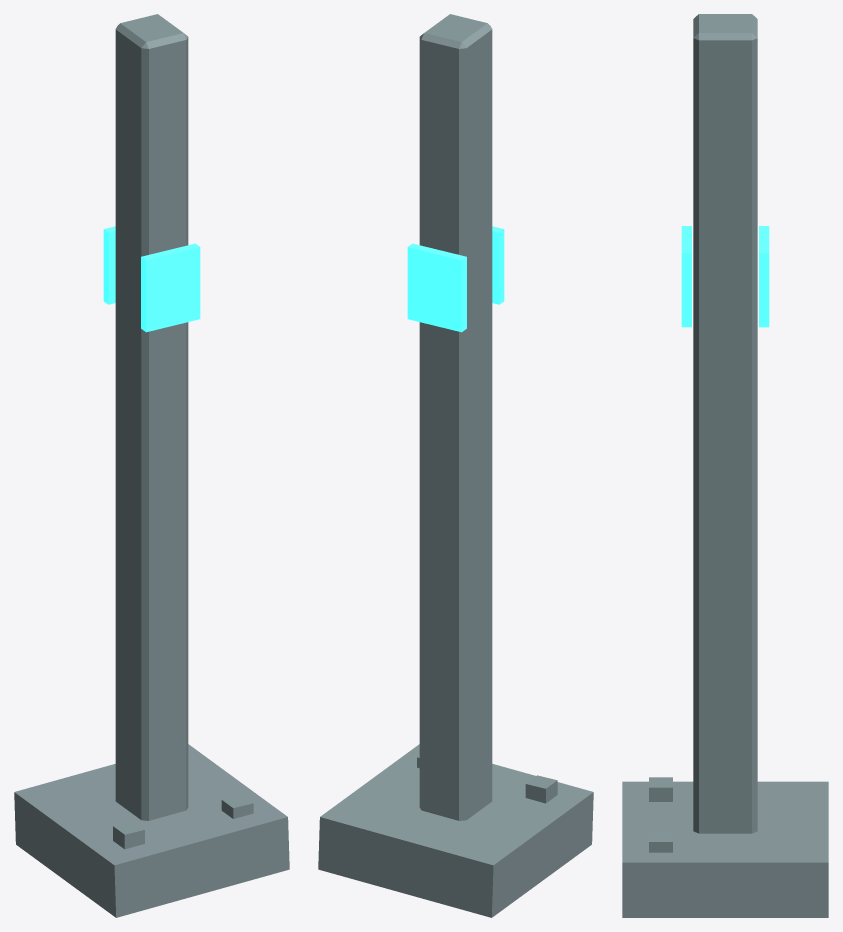
File: RoadPlan_RampParapet_2L_Rise8p4_L110_Upright_104m_-1.glb
3 renders of one model, left to right at view 1: azimuth 30°, elevation 25°; view 2: azimuth 150°, elevation 25°; view 3: azimuth 270°, elevation 25°, orthographic. The views are drawn at different scales.
Parts seen in each view (by area): view 1: RoadPlan_RampParapet_2L_Rise8p4_L110_Upright_104m_-1; view 2: RoadPlan_RampParapet_2L_Rise8p4_L110_Upright_104m_-1; view 3: RoadPlan_RampParapet_2L_Rise8p4_L110_Upright_104m_-1.
Boxes of the visible parts, x1,y1,x2,y2 form: RoadPlan_RampParapet_2L_Rise8p4_L110_Upright_104m_-1: (14,14,289,917); RoadPlan_RampParapet_2L_Rise8p4_L110_Upright_104m_-1: (318,14,593,917); RoadPlan_RampParapet_2L_Rise8p4_L110_Upright_104m_-1: (622,14,828,917).
Size of the model in its own units: 0.2422 by 1.1 by 0.24.
